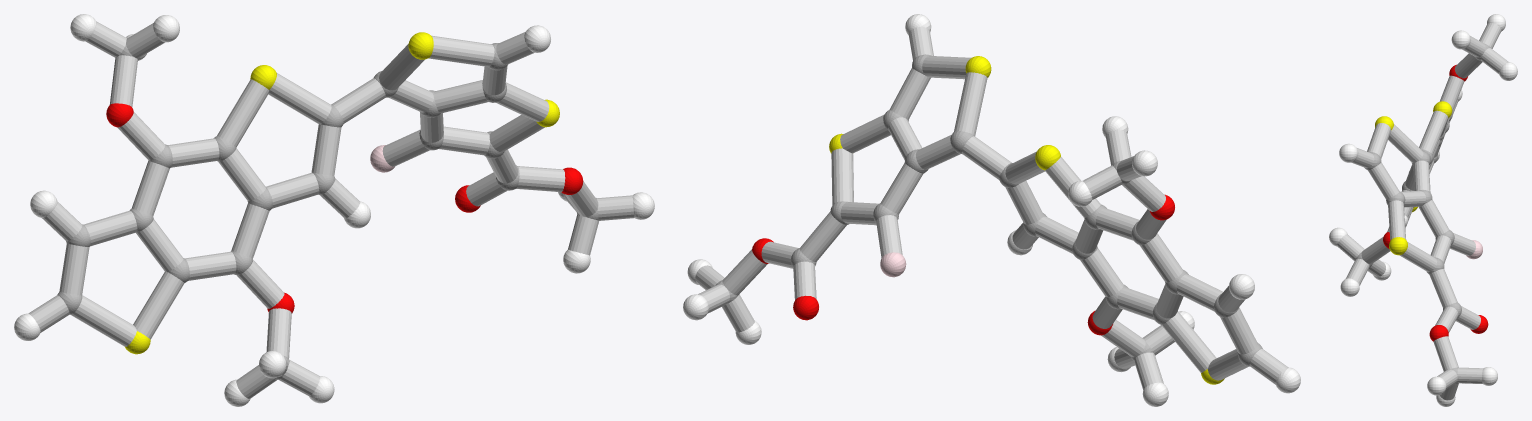
The model's file is color.glb.
The picture shows the model from 3 angles, left to right: view 1: azimuth 30°, elevation 25°; view 2: azimuth 150°, elevation 25°; view 3: azimuth 270°, elevation 25°; orthographic projection. The views are drawn at different scales.
Parts seen in each view (by area): view 1: grp15205, grp8689, grp1, grp7241, grp13395; view 2: grp15205, grp8689, grp1, grp13395, grp7241; view 3: grp15205, grp8689, grp1, grp7241, grp13395.
Boxes of the visible parts, bbox=[...] form: grp15205: bbox=[28, 21, 634, 398]; grp8689: bbox=[14, 14, 654, 406]; grp1: bbox=[57, 37, 598, 379]; grp7241: bbox=[125, 32, 559, 354]; grp13395: bbox=[106, 103, 583, 313]; grp15205: bbox=[695, 27, 1287, 389]; grp8689: bbox=[683, 14, 1300, 406]; grp1: bbox=[715, 54, 1262, 366]; grp13395: bbox=[752, 194, 1174, 335]; grp7241: bbox=[829, 56, 1224, 384]; grp15205: bbox=[1337, 22, 1508, 400]; grp8689: bbox=[1329, 14, 1517, 406]; grp1: bbox=[1356, 43, 1490, 384]; grp7241: bbox=[1375, 101, 1452, 255]; grp13395: bbox=[1383, 64, 1488, 341].
Size of the model in its own units: 16.06 by 8.4 by 5.9.
